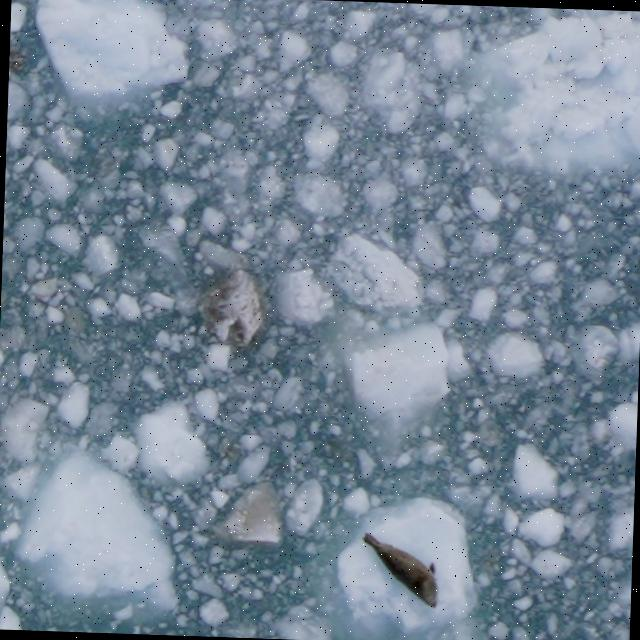seal: (355, 529, 445, 613)
